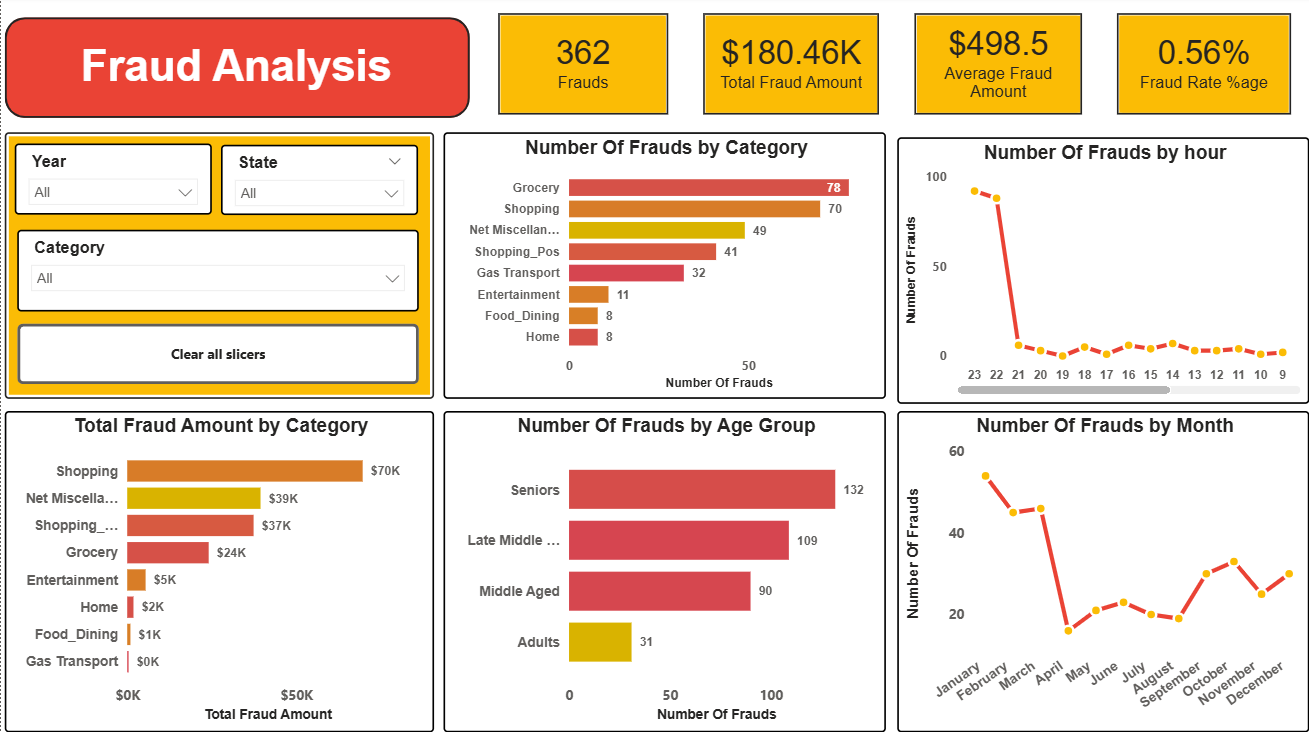

Layout of this report page (visuals, bound fields, positions):
{"tool":"powerbi","page":{"name":"Fraud Analysis","canvas":[1280,720],"ordinal":1},"visuals":[{"type":"group","id":"g1","title":"Group 1","box":[3.7,21,455,98.6],"z":0},{"type":"shape","box":[3.7,21,455,98.6],"z":1,"group":"g1"},{"type":"textbox","box":[23.4,39.2,414,63.7],"z":501,"group":"g1"},{"type":"cardVisual","fields":{"Data":["trasaction.Number Of Frauds"]},"box":[470.1,0,200.2,133.5],"z":1000},{"type":"cardVisual","fields":{"Data":["trasaction.Total Fraud Amount"]},"box":[670.3,0,206.3,133.5],"z":2000},{"type":"cardVisual","fields":{"Data":["trasaction.Average Fraud Amount"]},"box":[876.6,0,198.7,133.5],"z":3000},{"type":"cardVisual","fields":{"Data":["trasaction.Fraud Rate %age"]},"box":[1075.3,0,204.7,133.5],"z":4000},{"type":"lineChart","fields":{"Y":["trasaction.Number Of Frauds"],"Category":["trasaction.hour"]},"box":[876.8,138.2,403.5,260.5],"z":5000},{"type":"barChart","fields":{"Category":["trasaction.age_group"],"Y":["trasaction.Number Of Frauds"]},"box":[433.1,406,433.1,314.2],"z":6000},{"type":"barChart","fields":{"Category":["trasaction.category"],"Y":["trasaction.Number Of Frauds"]},"box":[433.1,133.2,433.1,261.2],"z":7000},{"type":"shape","box":[3.9,133.2,420.2,261.2],"z":8000},{"type":"slicer","fields":{"Values":["trasaction.trans_date_trans_time.Variation.Date Hierarchy.Year"]},"box":[12.9,144.8,192.6,69.8],"z":9000},{"type":"slicer","fields":{"Values":["trasaction.state"]},"box":[214.6,146.1,192.6,68.5],"z":10000},{"type":"slicer","fields":{"Values":["trasaction.category"]},"box":[15.5,228.8,393.1,80.2],"z":11000},{"type":"actionButton","box":[15.5,320.6,393.1,59.5],"z":12000},{"type":"lineChart","fields":{"Category":["trasaction.trans_date_trans_time.Variation.Date Hierarchy.Month"],"Y":["trasaction.Number Of Frauds"]},"box":[876.6,406,403.4,314.2],"z":13000},{"type":"clusteredBarChart","fields":{"Y":["trasaction.Total Fraud Amount"],"Category":["trasaction.category"]},"box":[3.9,406,420.2,314.2],"z":14000}]}

Visuals, with their boxes in screenshot pixels (x1, y1, x2, y2), scaled from the page's 1280x720 canvas onto the 1309x732 screenshot:
"Group 1" group: bbox=[4, 21, 469, 122]
shape: bbox=[4, 21, 469, 122]
textbox: bbox=[24, 40, 447, 105]
cardVisual - trasaction.Number Of Frauds: bbox=[481, 0, 685, 136]
cardVisual - trasaction.Total Fraud Amount: bbox=[685, 0, 896, 136]
cardVisual - trasaction.Average Fraud Amount: bbox=[896, 0, 1100, 136]
cardVisual - trasaction.Fraud Rate %age: bbox=[1100, 0, 1308, 136]
lineChart - trasaction.Number Of Frauds x trasaction.hour: bbox=[897, 141, 1308, 405]
barChart - trasaction.age_group x trasaction.Number Of Frauds: bbox=[443, 413, 886, 731]
barChart - trasaction.category x trasaction.Number Of Frauds: bbox=[443, 135, 886, 401]
shape: bbox=[4, 135, 434, 401]
slicer - trasaction.trans_date_trans_time.Variation.Date Hierarchy.Year: bbox=[13, 147, 210, 218]
slicer - trasaction.state: bbox=[219, 149, 416, 218]
slicer - trasaction.category: bbox=[16, 233, 418, 314]
actionButton: bbox=[16, 326, 418, 386]
lineChart - trasaction.trans_date_trans_time.Variation.Date Hierarchy.Month x trasaction.Number Of Frauds: bbox=[896, 413, 1308, 731]
clusteredBarChart - trasaction.Total Fraud Amount x trasaction.category: bbox=[4, 413, 434, 731]
